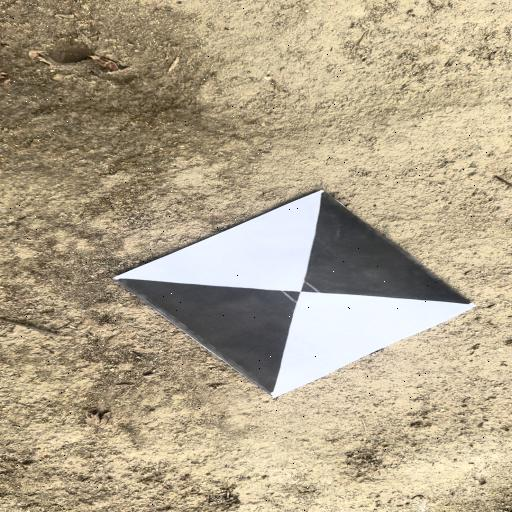target: (115, 190, 474, 398)
